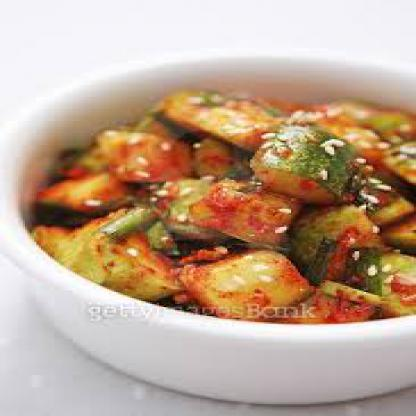cucumber kimchi: (47, 86, 414, 338)
